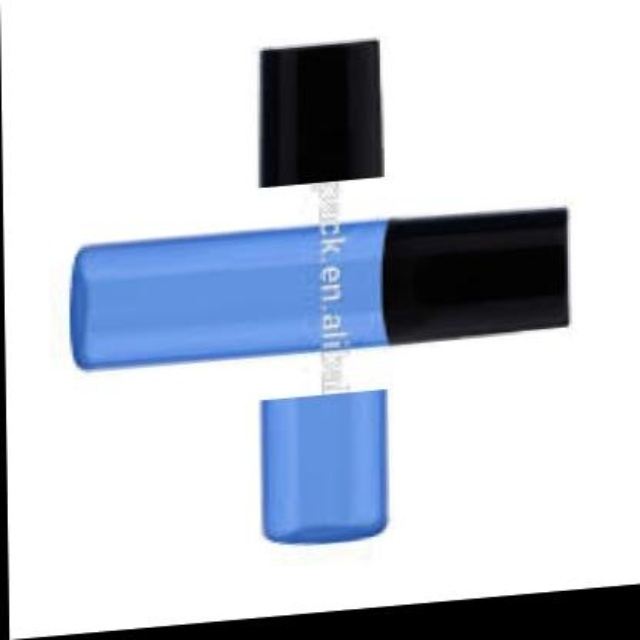trash: (71, 208, 568, 385), (71, 226, 320, 366), (342, 208, 566, 346), (262, 389, 386, 542), (262, 391, 385, 542), (260, 42, 382, 185)
